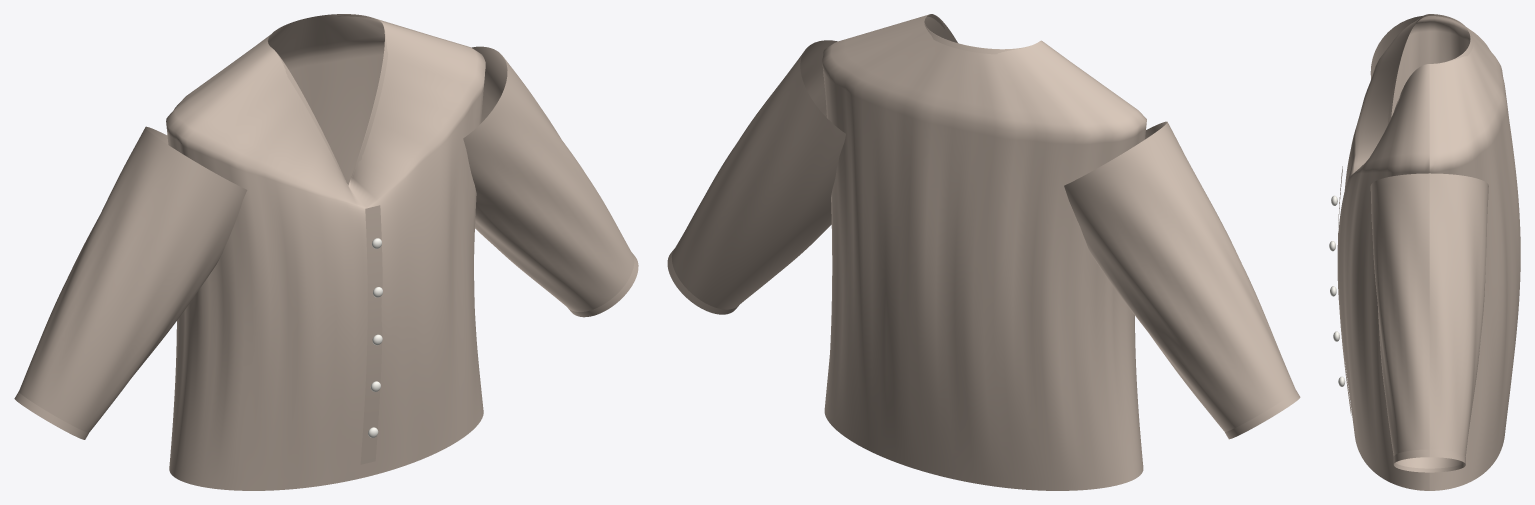
The model's file is pearl_blouse_mocha-beige.glb.
The picture shows the model from 3 angles, left to right: view 1: azimuth 30°, elevation 25°; view 2: azimuth 150°, elevation 25°; view 3: azimuth 270°, elevation 25°; orthographic projection. The views are drawn at different scales.
Parts seen in each view (by area): view 1: Draped blouse body, Right eight-length sleeve, Left eight-length sleeve, Front button placket, V neck binding, Right cuff seam; view 2: Draped blouse body, Right eight-length sleeve, Left eight-length sleeve, Right cuff seam; view 3: Draped blouse body, Left eight-length sleeve, Left cuff seam, Right eight-length sleeve, V neck binding.
Part boxes in pixels (x1,y1,x2,y2): Draped blouse body: (166, 14, 485, 490); Right eight-length sleeve: (19, 126, 247, 432); Left eight-length sleeve: (463, 46, 634, 311); Front button placket: (360, 205, 382, 464); V neck binding: (267, 14, 388, 180); Right cuff seam: (14, 391, 88, 439); Draped blouse body: (822, 14, 1146, 490); Right eight-length sleeve: (1064, 121, 1295, 431); Left eight-length sleeve: (671, 40, 845, 309); Right cuff seam: (1225, 390, 1300, 439); Draped blouse body: (1337, 16, 1520, 490); Left eight-length sleeve: (1370, 173, 1488, 468); Left cuff seam: (1393, 449, 1465, 472); Right eight-length sleeve: (1370, 15, 1423, 117); V neck binding: (1387, 14, 1473, 124).
Size of the model in its own units: 1.02 by 0.654 by 0.2916.
